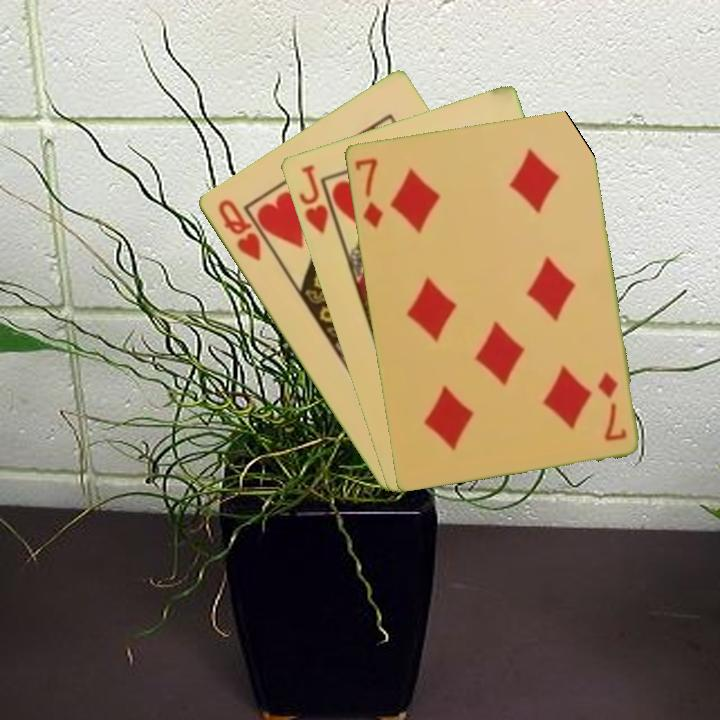7d: (351, 154, 386, 230), (594, 368, 629, 444)
Jh: (294, 161, 342, 238)
Qh: (214, 195, 264, 264)
